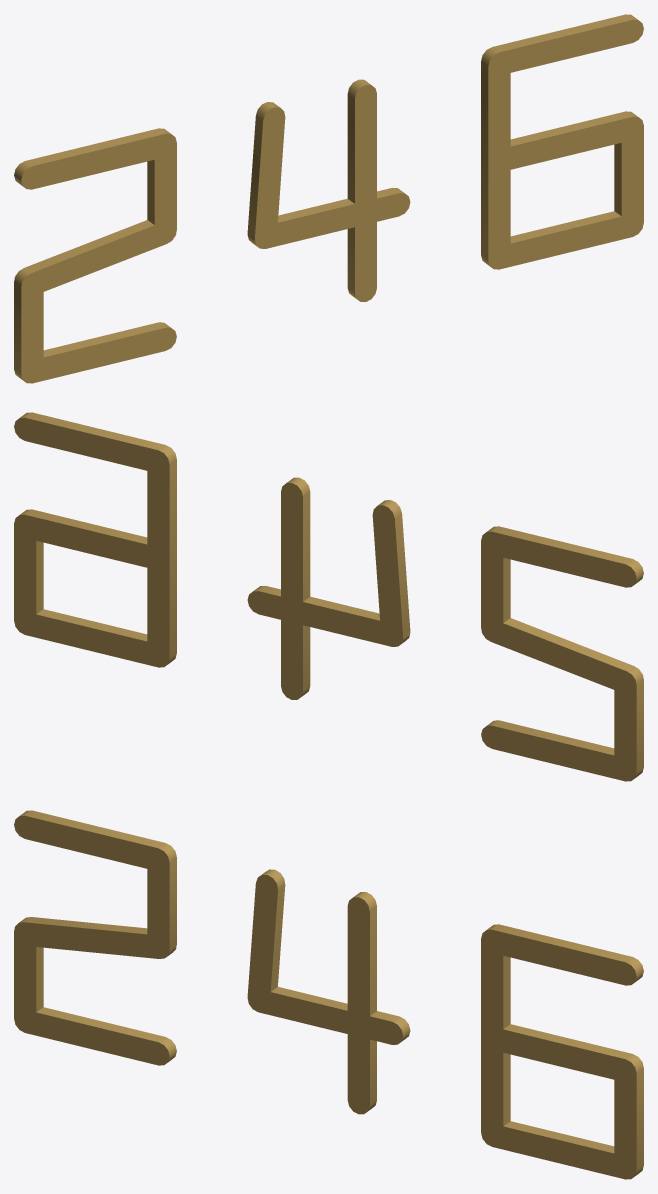
The picture shows the model from 3 angles, top to bottom: view 1: azimuth 30°, elevation 25°; view 2: azimuth 150°, elevation 25°; view 3: azimuth 330°, elevation 25°; orthographic projection.
Parts seen in each view (by area): view 1: iron_numerals; view 2: iron_numerals; view 3: iron_numerals.
Boxes of the visible parts, x1=… form: iron_numerals: x1=14, y1=14, x2=643, y2=383; iron_numerals: x1=14, y1=412, x2=643, y2=781; iron_numerals: x1=14, y1=810, x2=643, y2=1179.
Size of the model in its own units: 0.168 by 0.056 by 0.0034.
